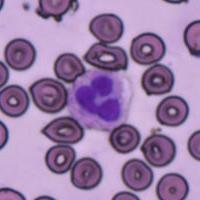N: (66, 68, 132, 130)
